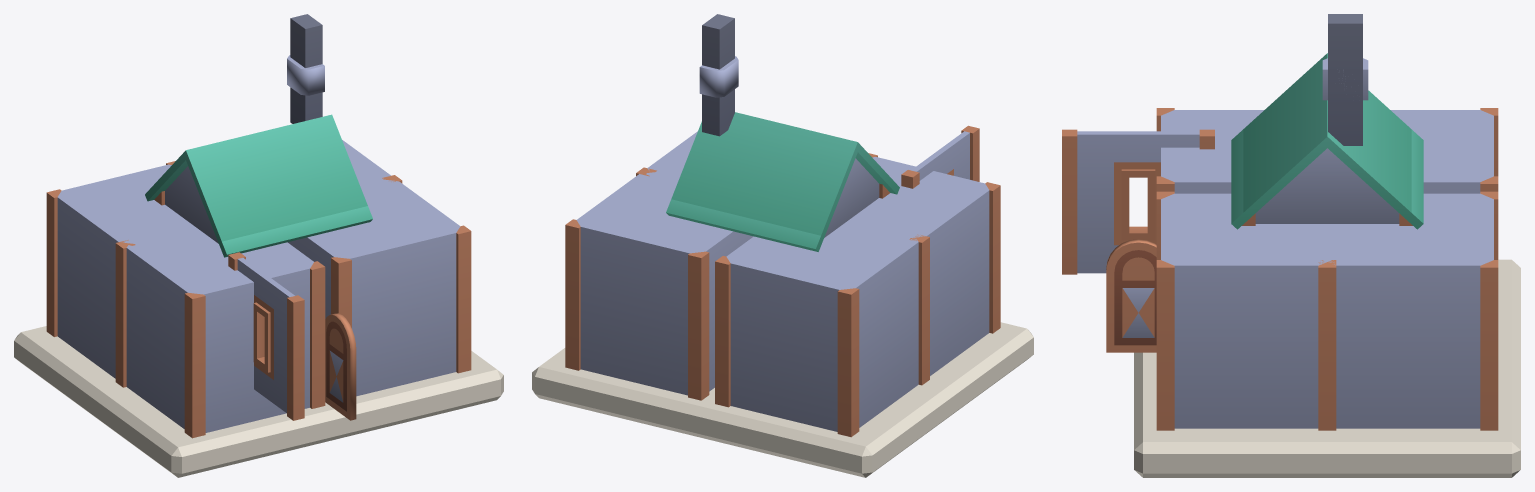
Rendered from european-house.glb.
3 renders of one model, left to right at view 1: azimuth 30°, elevation 25°; view 2: azimuth 150°, elevation 25°; view 3: azimuth 270°, elevation 25°, orthographic. The views are drawn at different scales.
Parts seen in each view (by area): view 1: keep; view 2: keep; view 3: keep.
Part boxes in pixels (x1=…): keep: x1=14, y1=14, x2=503, y2=477; keep: x1=532, y1=14, x2=1033, y2=477; keep: x1=1062, y1=14, x2=1520, y2=477.
Bounding box in the file's own units: 1.17 × 1.15 × 1.2.
Materials: 9 (8 with a texture image).
